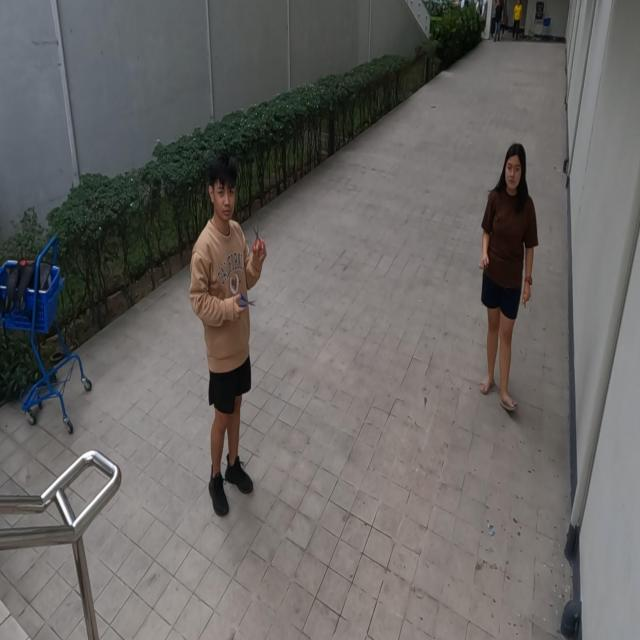scissor: (252, 224, 265, 255), (238, 293, 256, 310)
